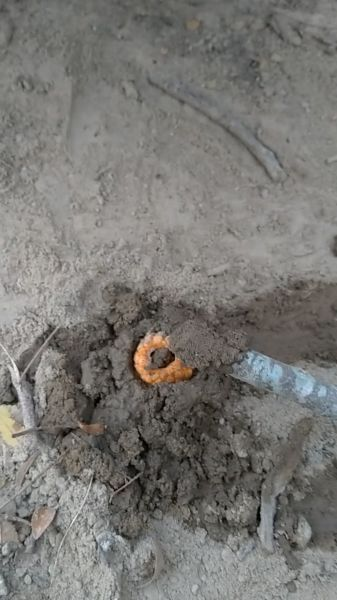eggs: (127, 326, 200, 389)
